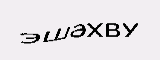А: (117, 17, 128, 40)
Б: (58, 9, 78, 35)
Ж: (34, 16, 57, 41)
И: (102, 15, 119, 34)
П: (83, 10, 100, 32)
